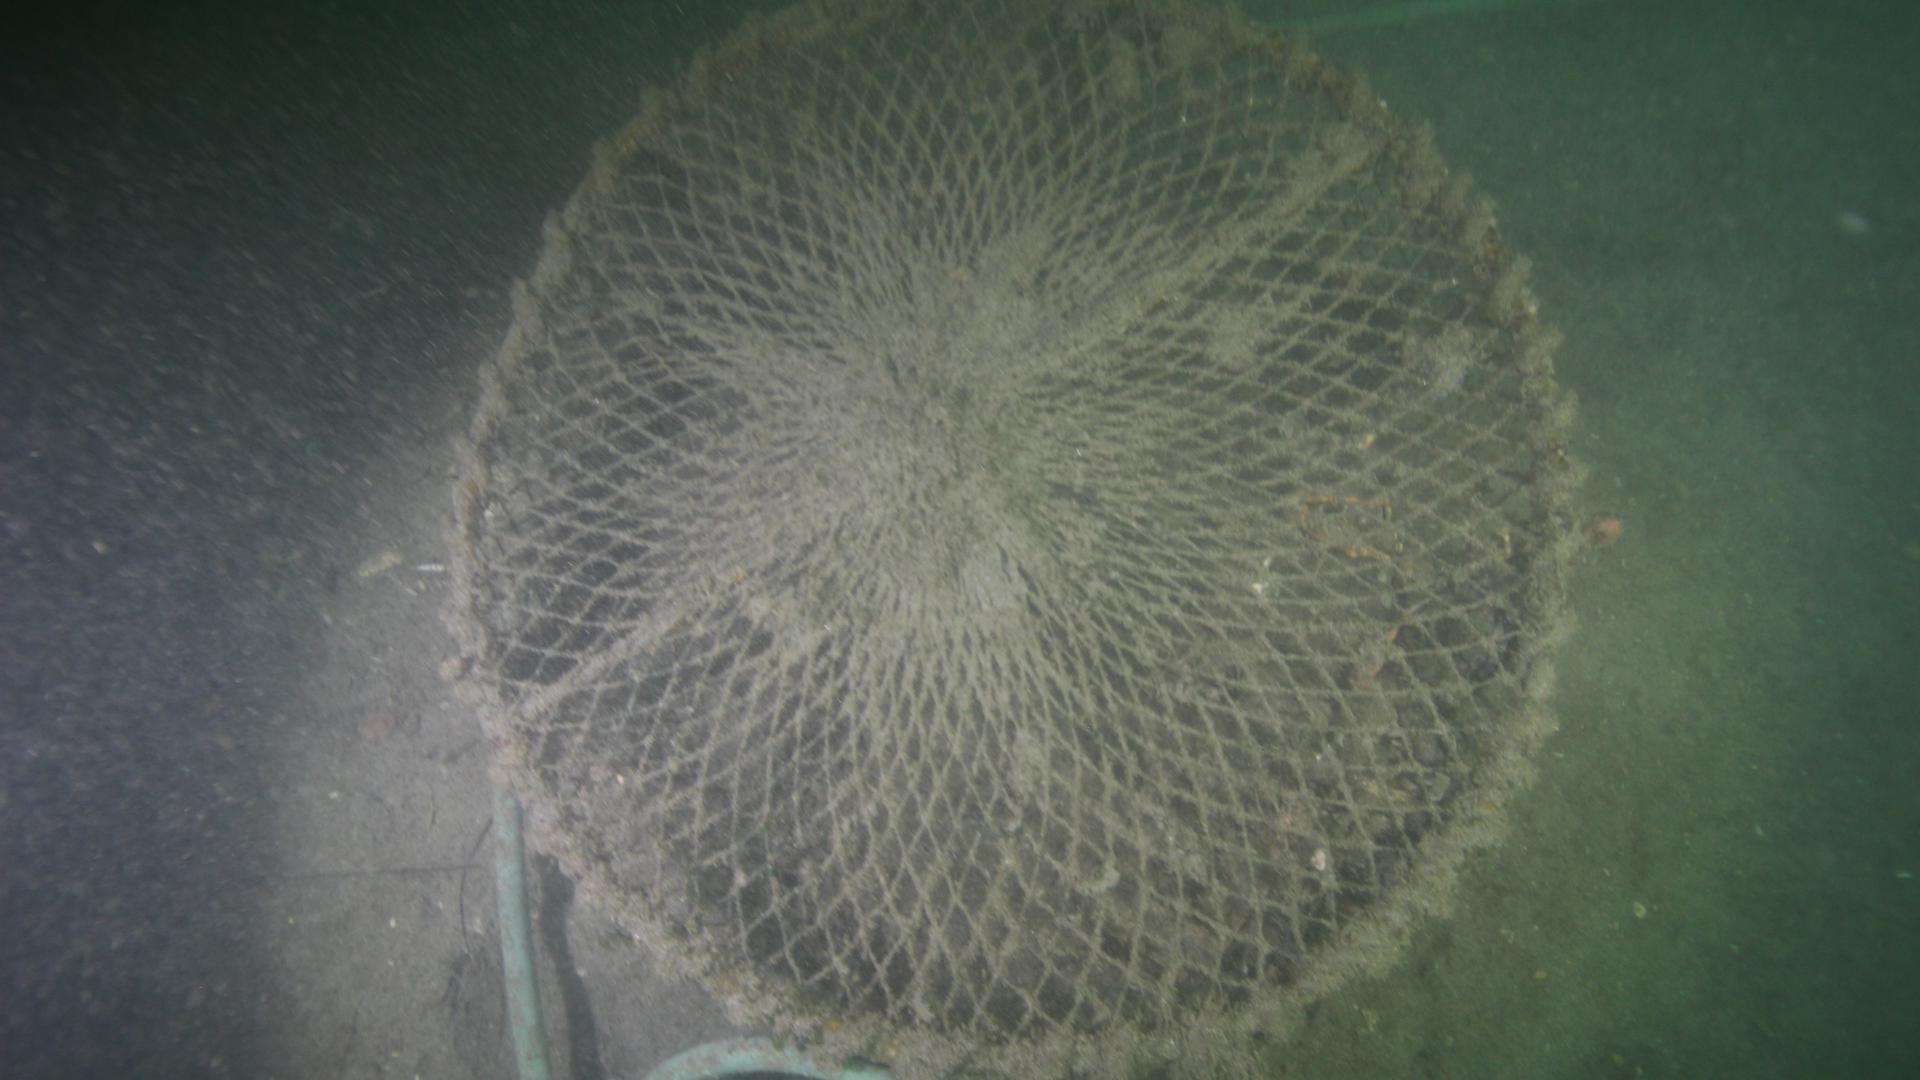circular fish trap: (447, 0, 1578, 1067)
